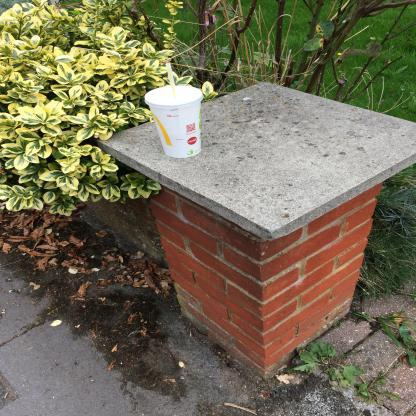karton: (146, 86, 206, 160)
plastik: (166, 63, 180, 99)
